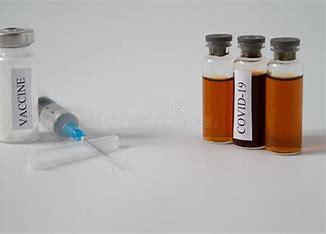Syringe: (46, 97, 130, 176), (265, 23, 308, 160), (1, 21, 41, 148), (198, 31, 235, 148), (231, 32, 266, 151)
